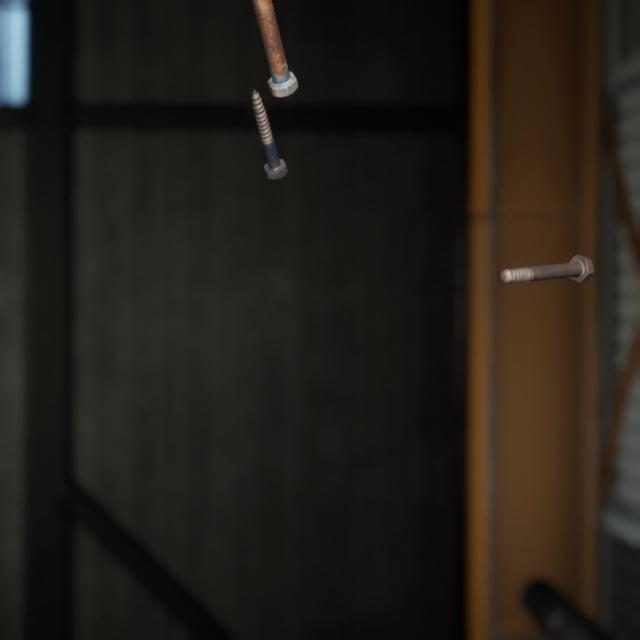bolt: (249, 0, 302, 92), (246, 71, 292, 171), (494, 234, 598, 271)
